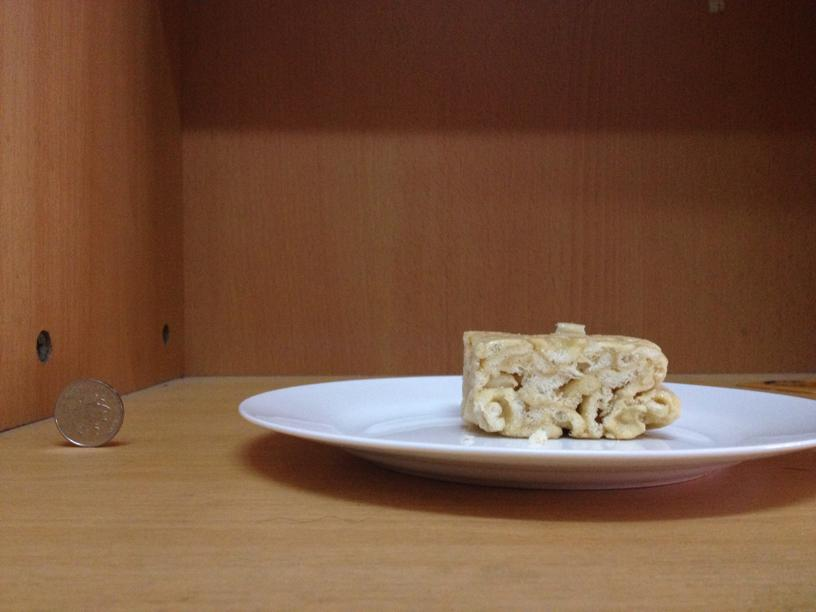coin: (54, 379, 122, 447)
sachima: (458, 329, 676, 438)
